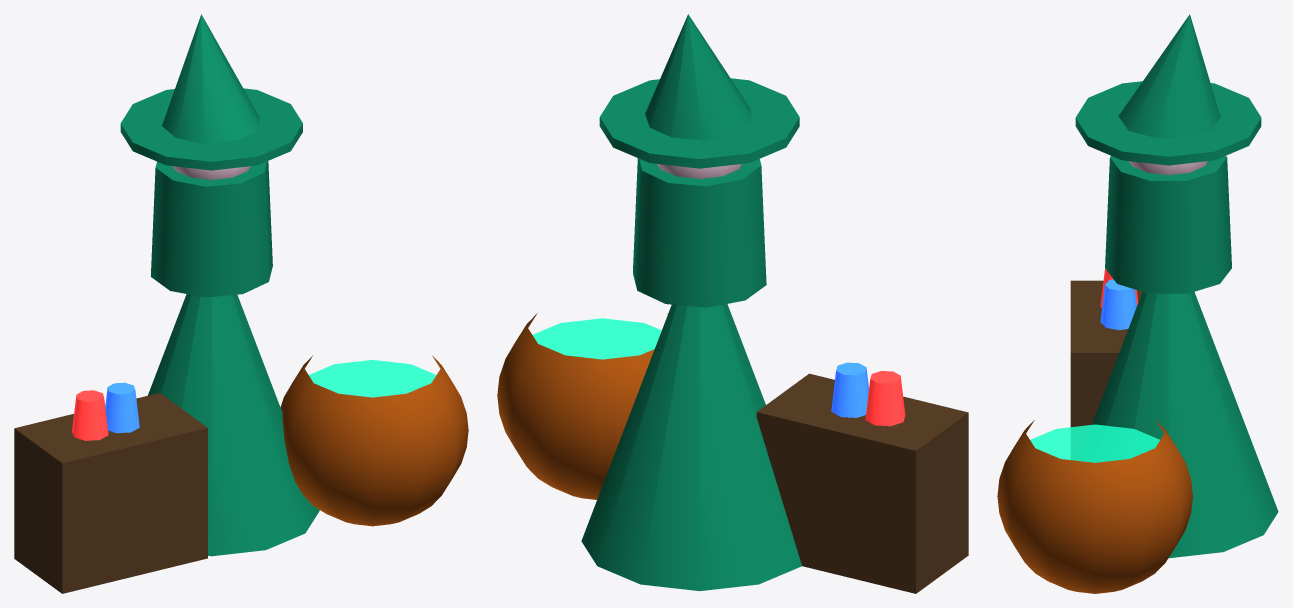
File: npc_pupa_pharmacist.glb
3 views of the same model, side by side, from view 1: azimuth 30°, elevation 25°; view 2: azimuth 150°, elevation 25°; view 3: azimuth 270°, elevation 25° (orthographic). The views are drawn at different scales.
Parts seen in each view (by area): view 1: NPC_PUPA_THE_PHARMACIST; view 2: NPC_PUPA_THE_PHARMACIST; view 3: NPC_PUPA_THE_PHARMACIST.
Boxes of the visible parts, left/top/right/bottom form: NPC_PUPA_THE_PHARMACIST: left=14, top=14, right=468, bottom=593; NPC_PUPA_THE_PHARMACIST: left=497, top=14, right=968, bottom=593; NPC_PUPA_THE_PHARMACIST: left=997, top=14, right=1278, bottom=593.
Bounding box in the file's own units: 1.95 × 2.3 × 1.15.
